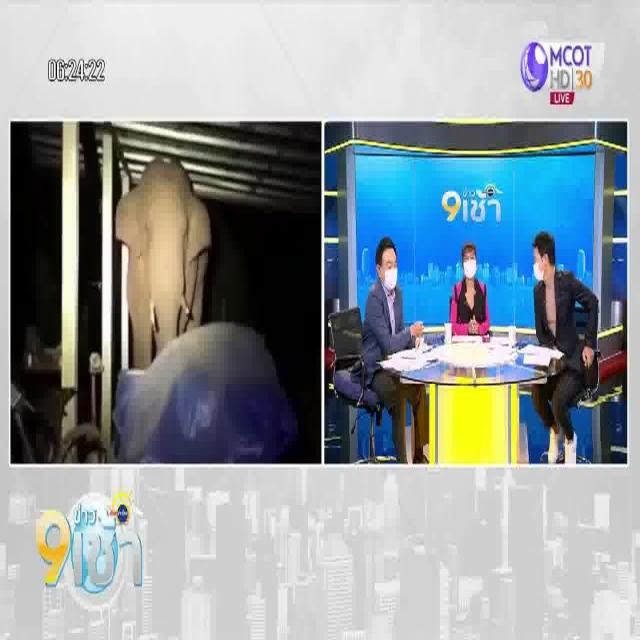Elephant: (117, 156, 209, 335)
